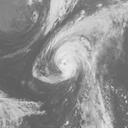cyclone: (31, 34, 98, 85)
